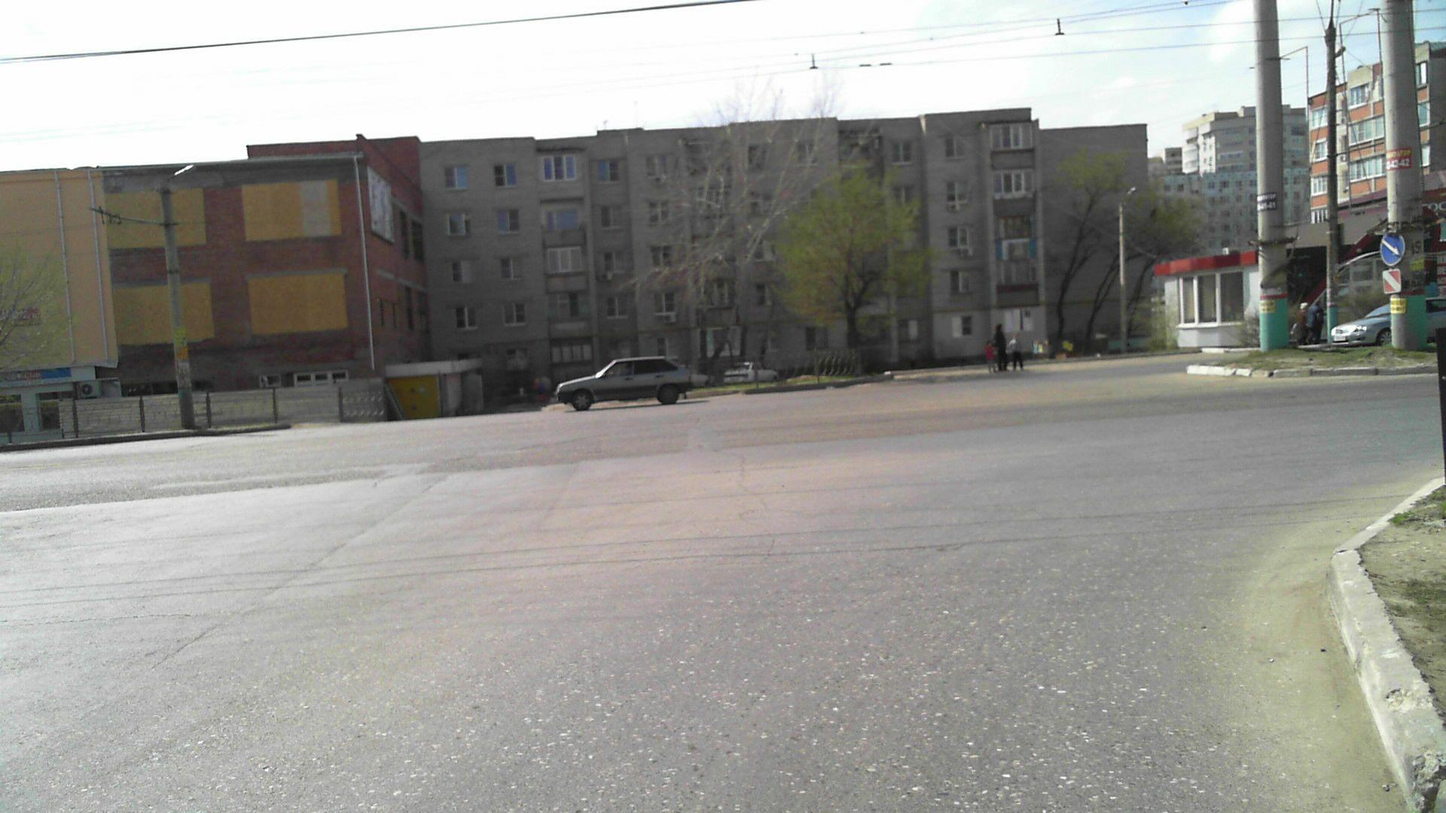road_sign: (1380, 234, 1405, 266), (1382, 268, 1402, 294)
